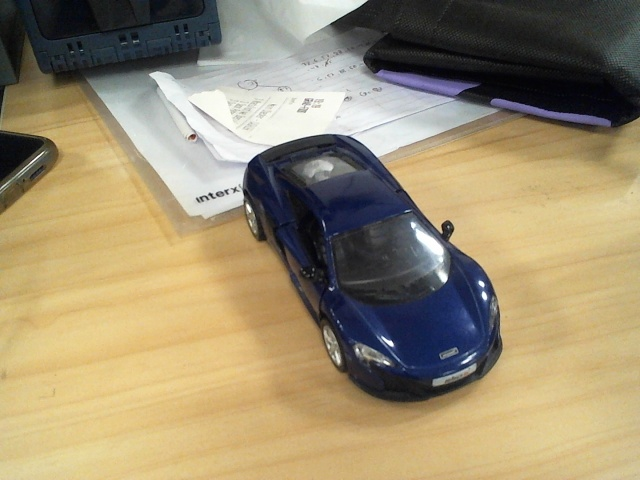car: (242, 134, 504, 403)
